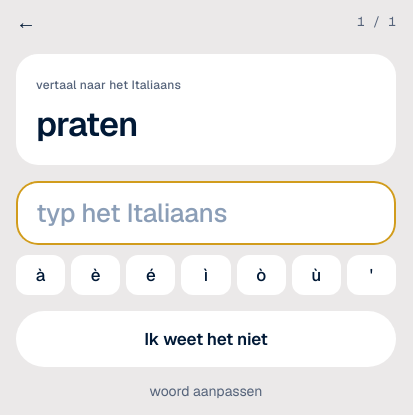
Test: Study – foute antwoorden worden niet overgeslagen › het briefje toont wanneer het woord terugkomt › verschijnt na een goed antwoord, bondig
The image size is (413, 415).
Type "parlare" into the field with placeholder "typ het Italiaans" at (206, 213), box [16,181,396,245]
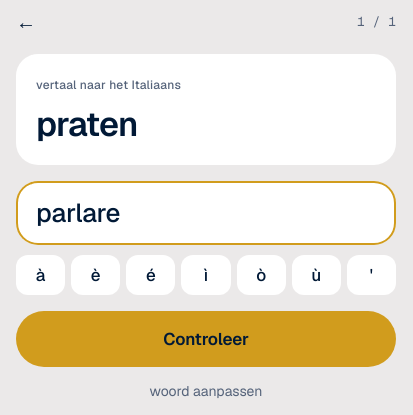
Click the button "Controleer" at (206, 339), box [16,311,396,367]
Wait 300 ms
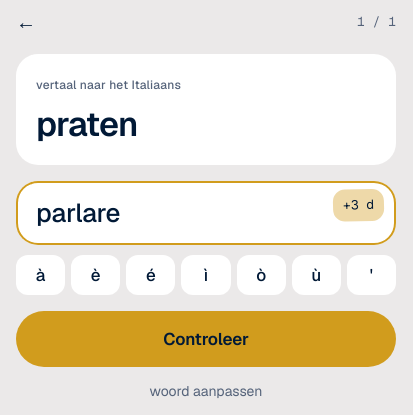
Expected: the text "+3 d" is shown, [332,189,384,222]
